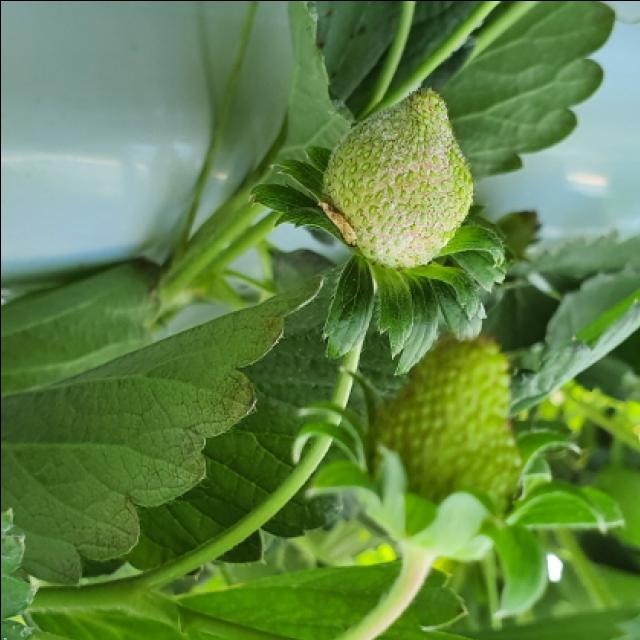Powdery Mildew Fruit: (322, 86, 472, 275)
